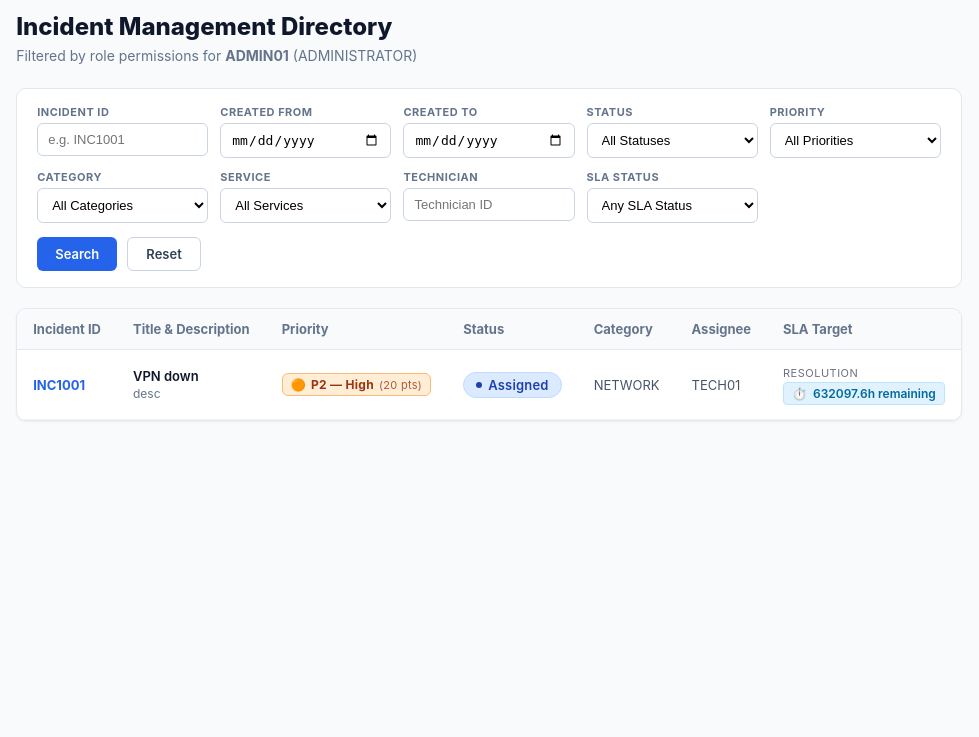
IncidentListPage server-side search › shows the empty state when the backend returns no incidents
Expected: the link "VPN down" is shown, [133, 368, 199, 384]
Step 1. Click the button "Search" → click(77, 254), box [37, 237, 117, 271]
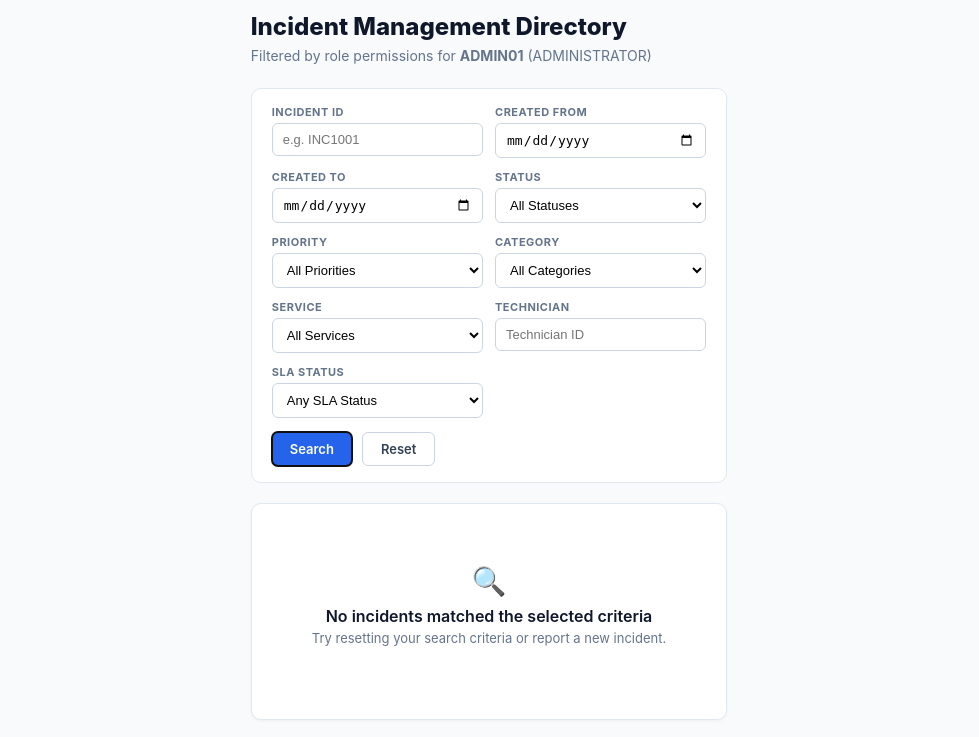
Expected: the text "No incidents matched the selected criteria" is shown, [312, 606, 666, 626]
